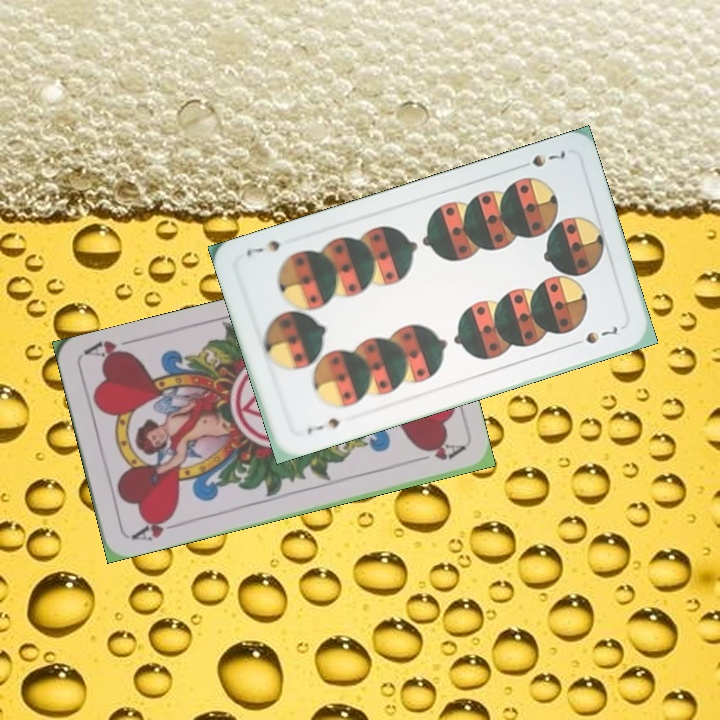HA: (126, 510, 185, 544)
S7: (512, 145, 568, 172), (303, 414, 347, 437)
